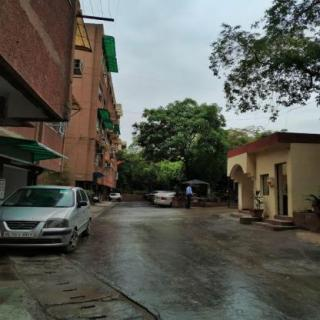Normal_vehicle: (0, 186, 90, 252)
